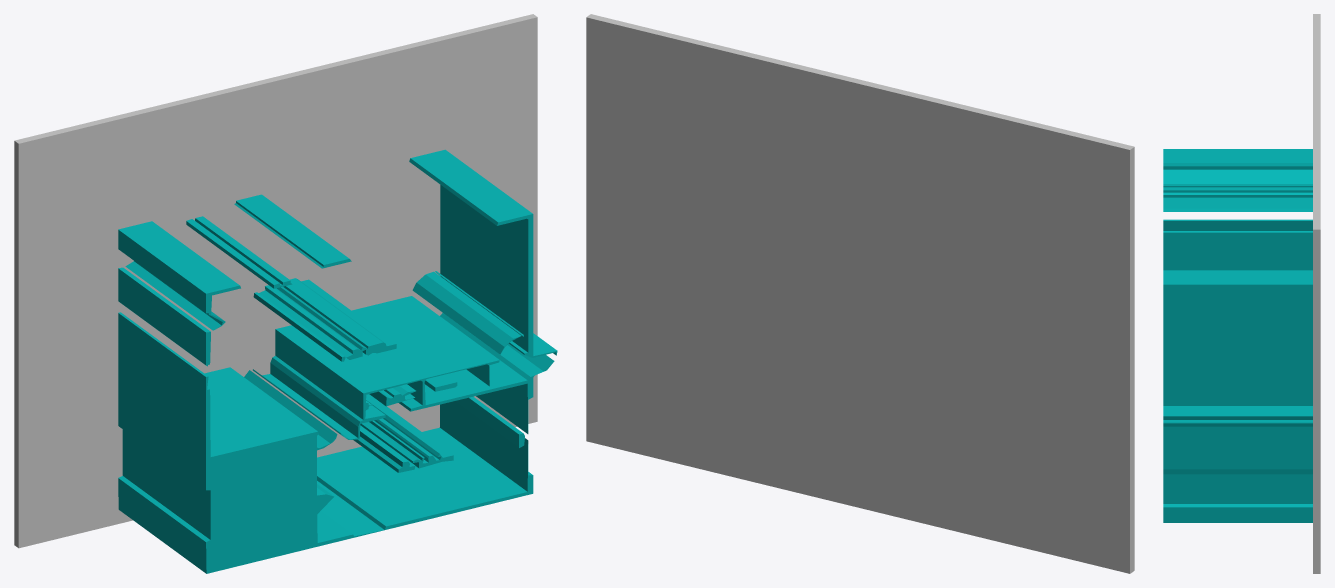
3 renders of one model, left to right at view 1: azimuth 30°, elevation 25°; view 2: azimuth 150°, elevation 25°; view 3: azimuth 270°, elevation 25°, orthographic. The views are drawn at different scales.
Visible parts, largest first — view 1: world; view 2: world; view 3: world.
Boxes of the visible parts, x1,y1,x2,y2 form: world: (14, 14, 557, 573); world: (586, 14, 1134, 573); world: (1163, 14, 1320, 573).
Size of the model in its own units: 10.23 by 7.62 by 3.15.
